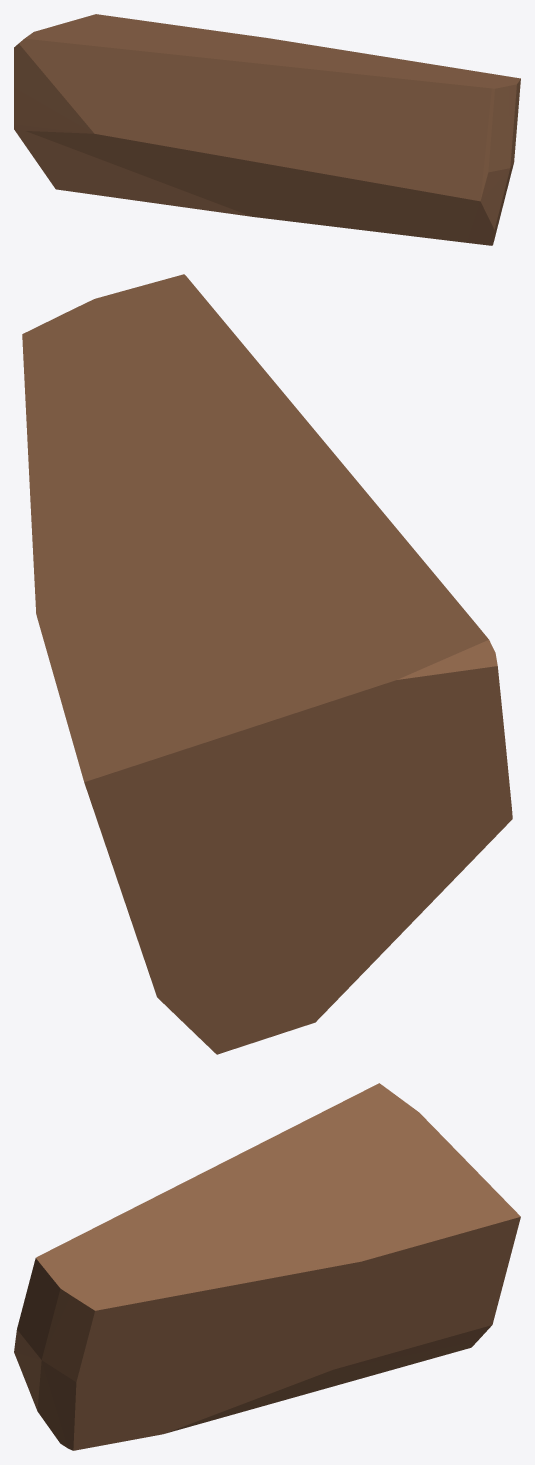
Rendered from WoodCellCube_003_cell_050.fbx.
The picture shows the model from 3 angles, top to bottom: view 1: azimuth 30°, elevation 25°; view 2: azimuth 150°, elevation 25°; view 3: azimuth 270°, elevation 25°; orthographic projection. The views are drawn at different scales.
Visible parts, largest first — view 1: WoodCellCube_003_cell_050; view 2: WoodCellCube_003_cell_050; view 3: WoodCellCube_003_cell_050.
Boxes of the visible parts, bbox=[...] form: WoodCellCube_003_cell_050: bbox=[14, 14, 520, 245]; WoodCellCube_003_cell_050: bbox=[22, 274, 512, 1054]; WoodCellCube_003_cell_050: bbox=[14, 1083, 520, 1450].
Size of the model in its own units: 1.25 by 0.5871 by 1.16.
Materials: 1 (1 with a texture image).
